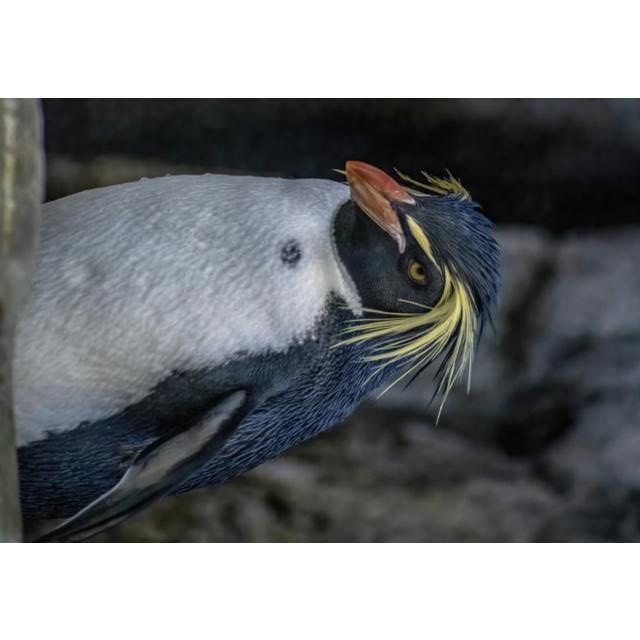penguin: (15, 156, 504, 540)
